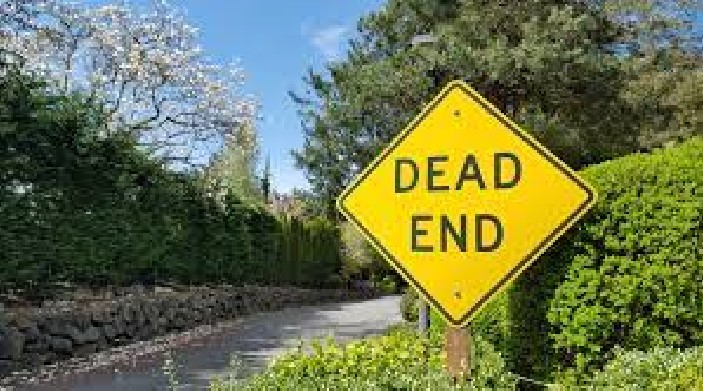Deadend: (336, 77, 599, 327)
